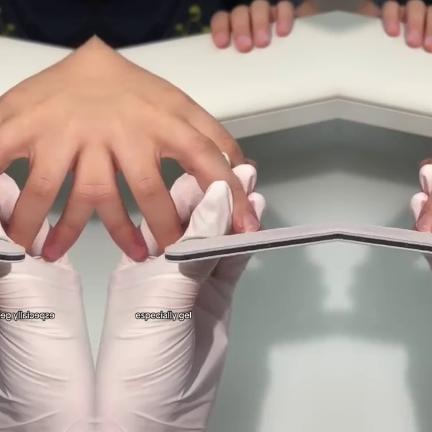Nail: (242, 213, 259, 232), (415, 213, 432, 232)
